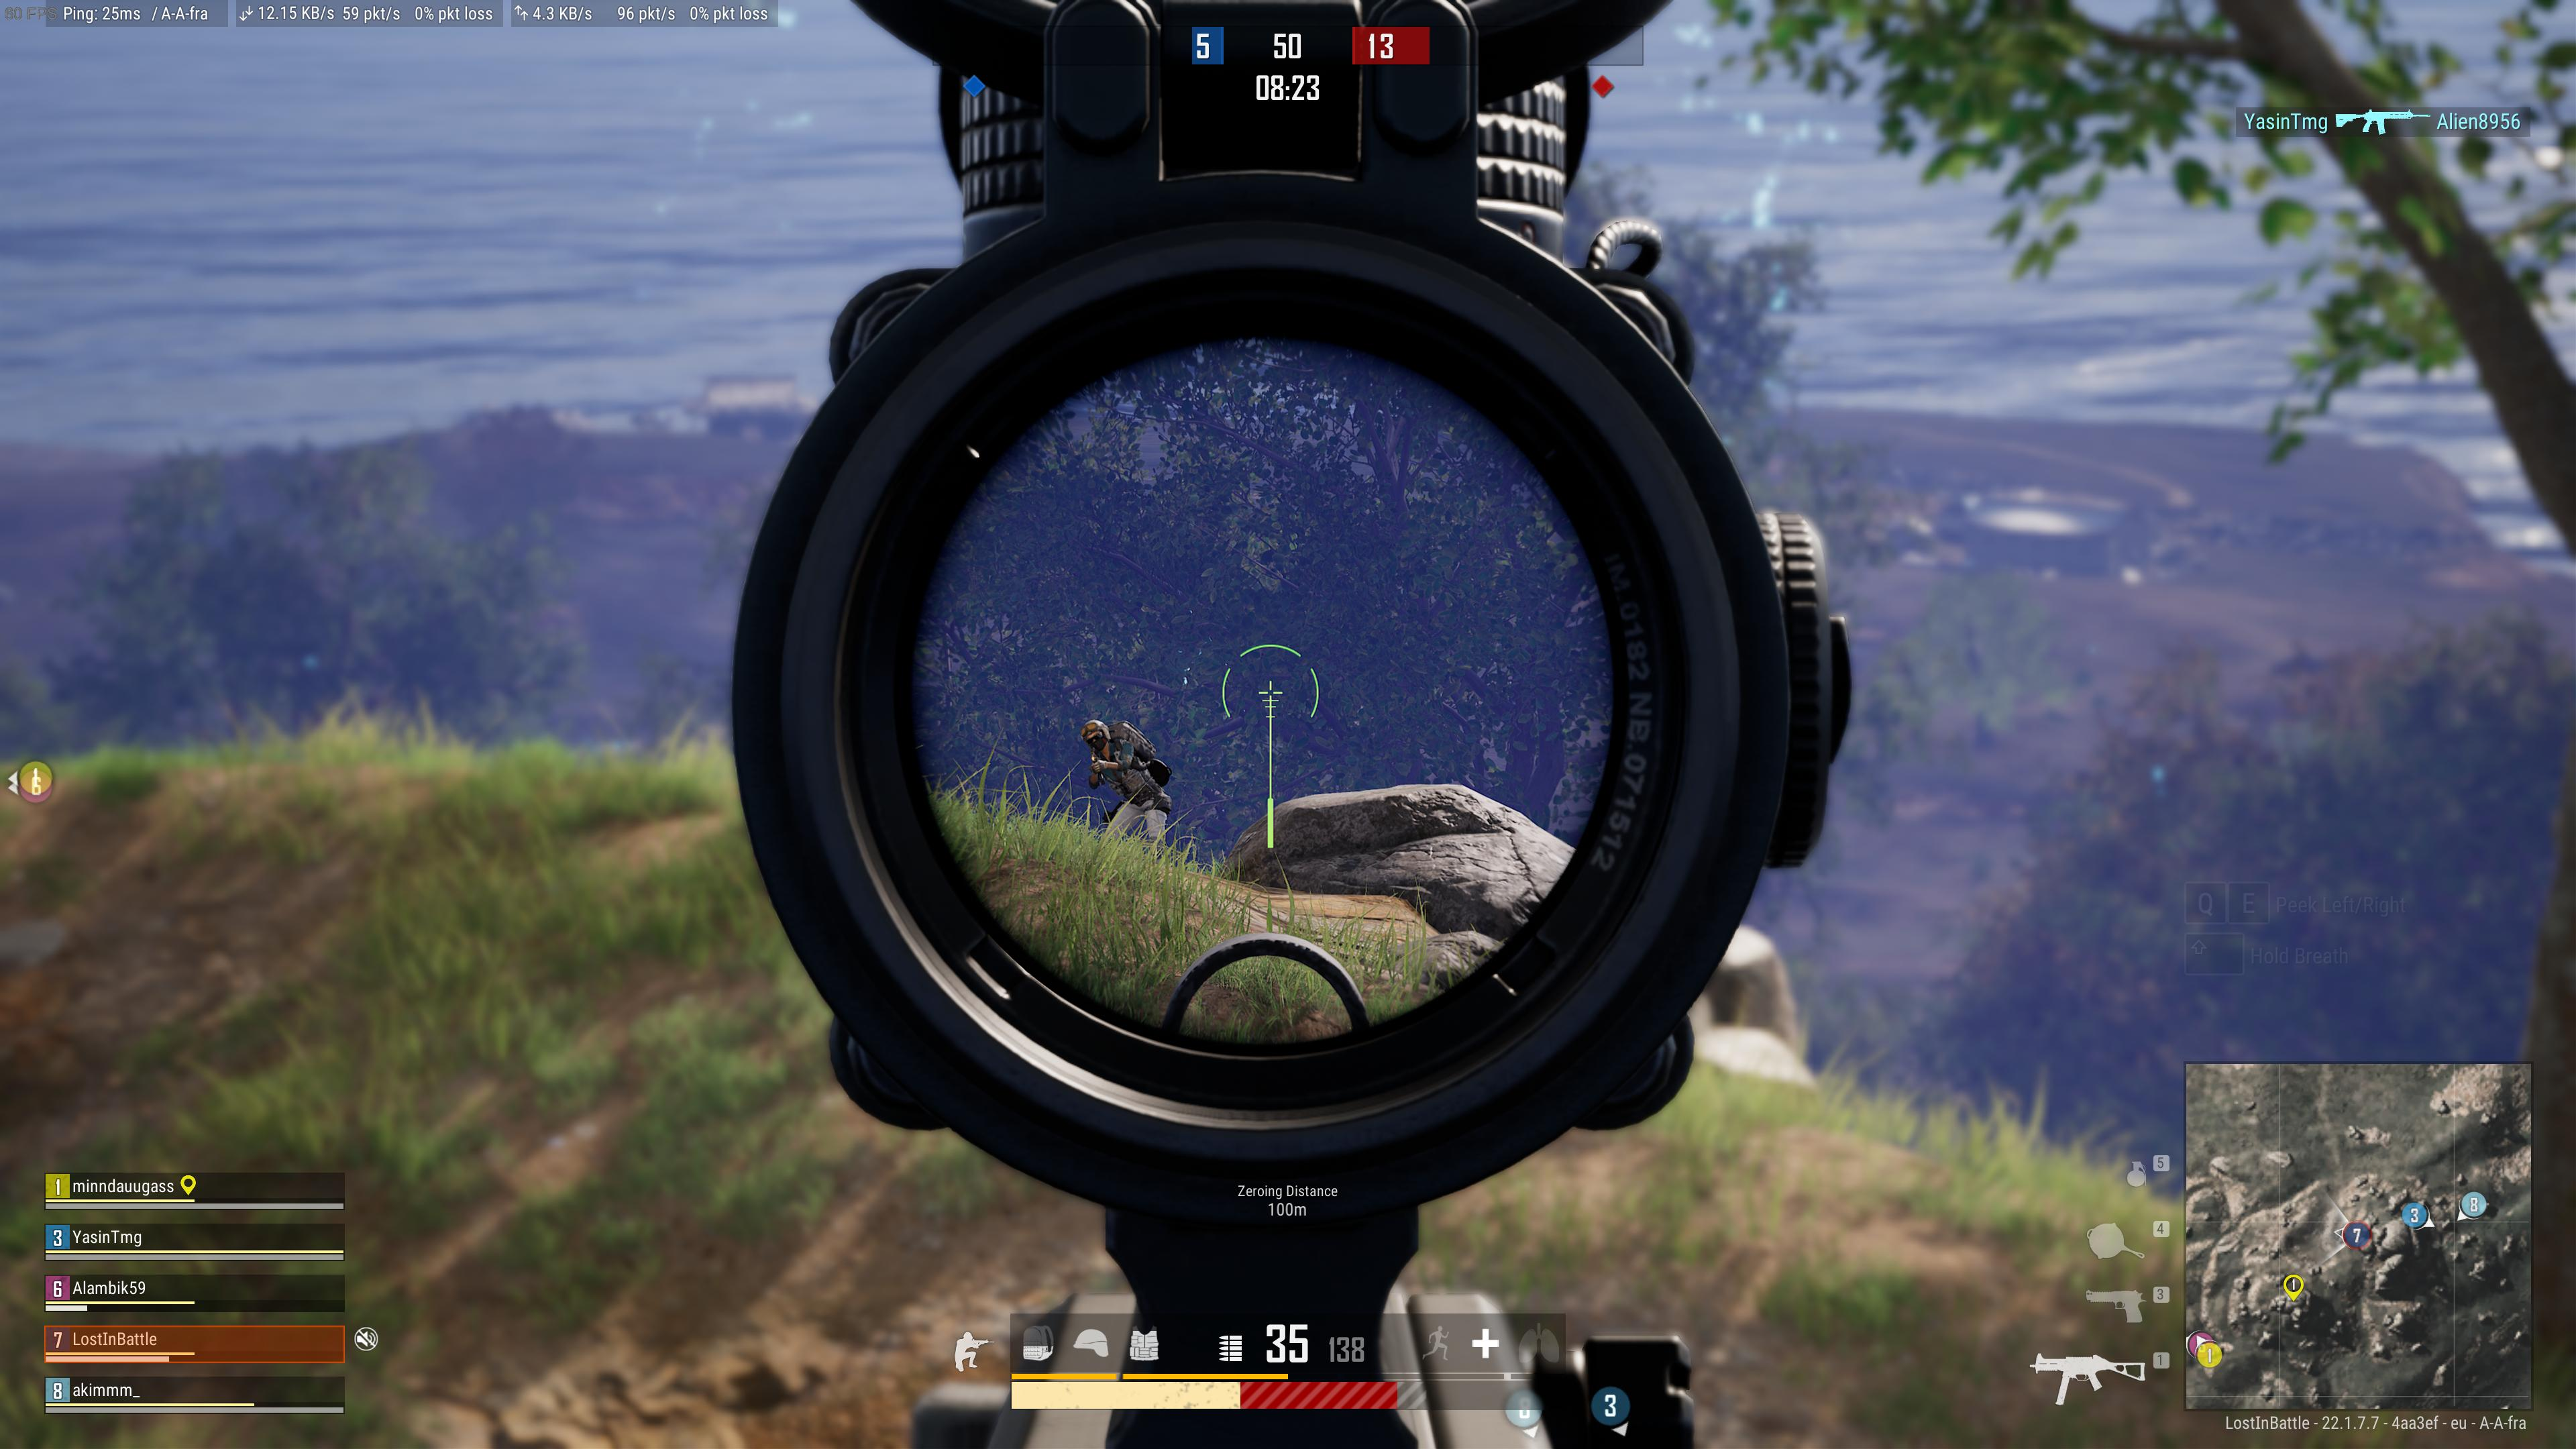enemy: (1079, 718, 1171, 862)
enemy_head: (1079, 718, 1111, 752)
